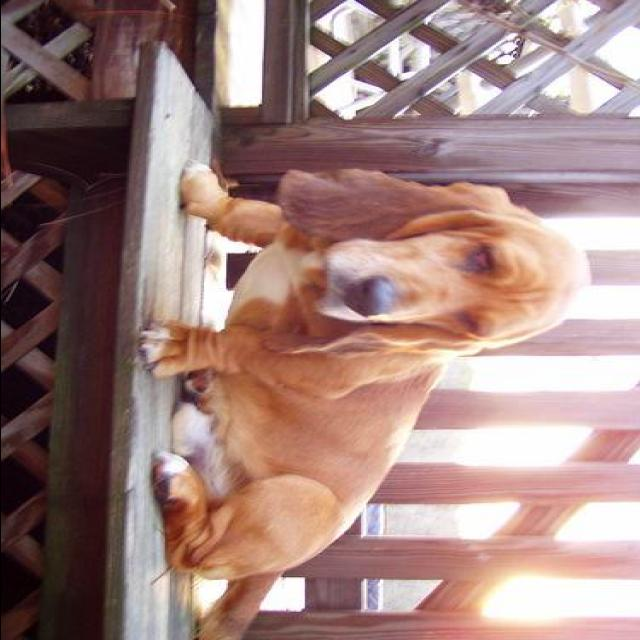basset: (142, 158, 592, 640)
